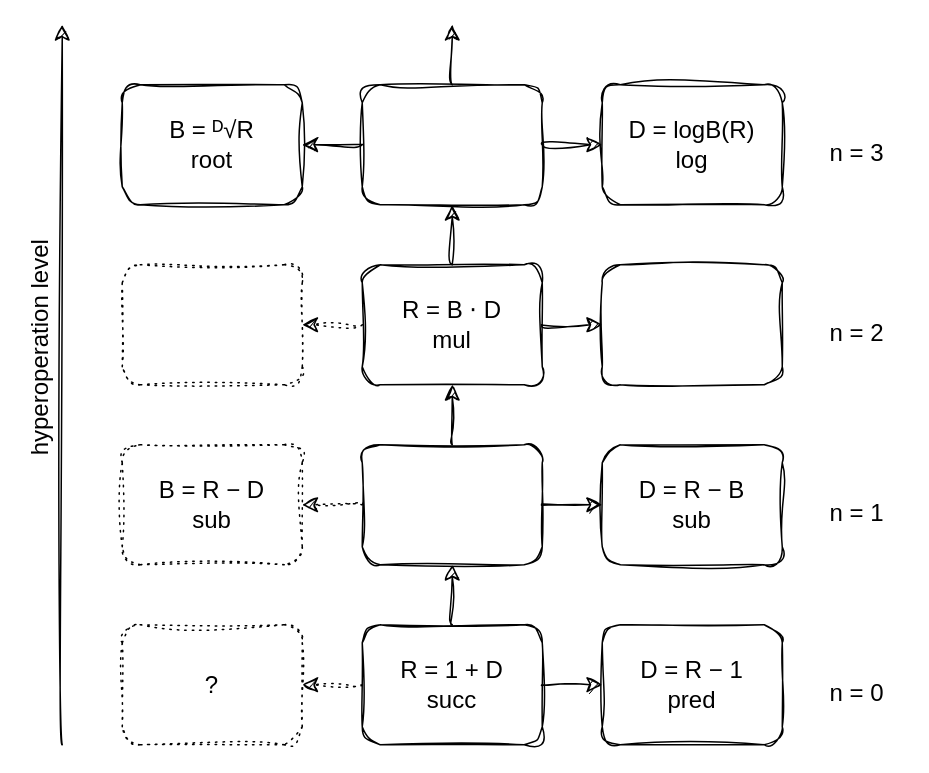
Some shapes in this 929 by 773 pixel diagram are drawn without their labels. Here are the shapes that lost their labels. From the top down, the centre of each, then its label:
the point at 451,144: R = B ^ D pow
the point at 211,324: B = R ∕ D div
the point at 691,324: D = R ∕ B div
the point at 451,504: R = B + D add
